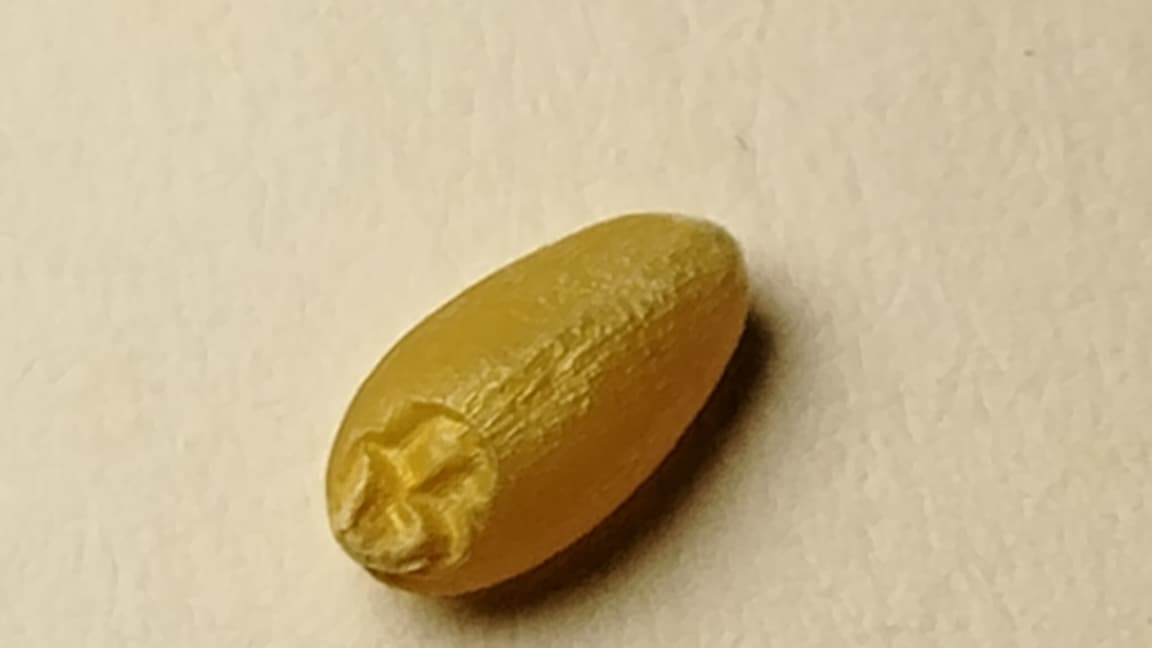healthy: (327, 214, 747, 594)
